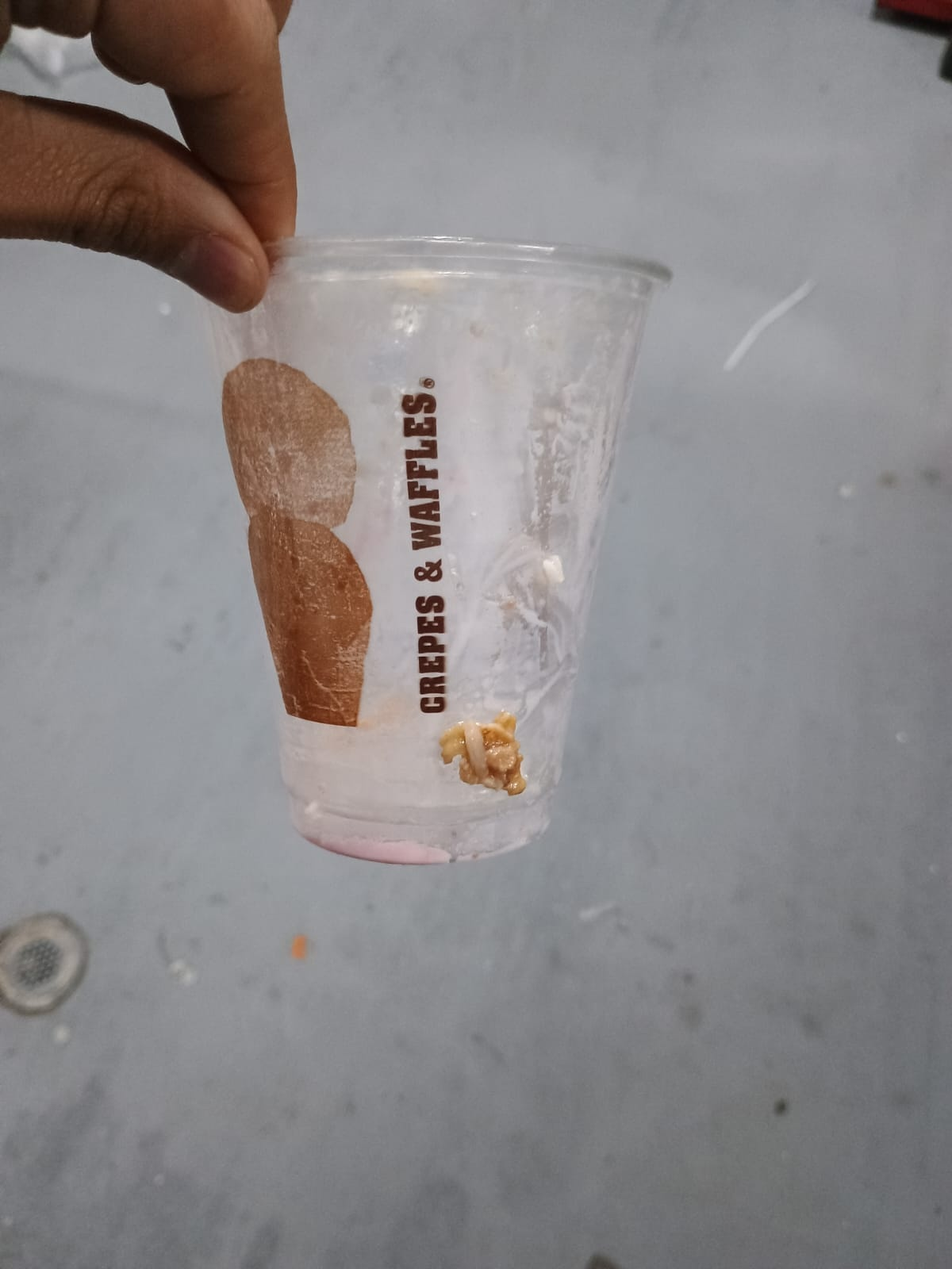Plastico: (216, 230, 676, 867)
